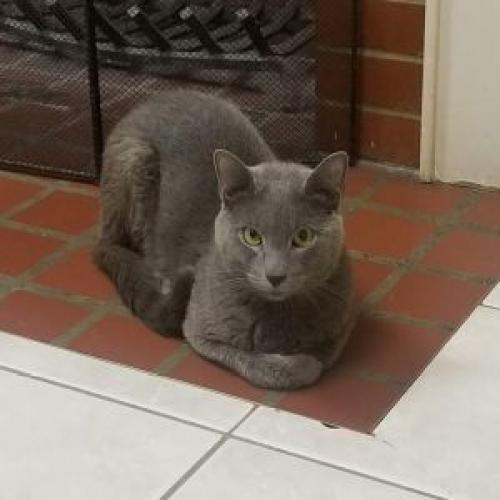rblue: (207, 153, 356, 307)
